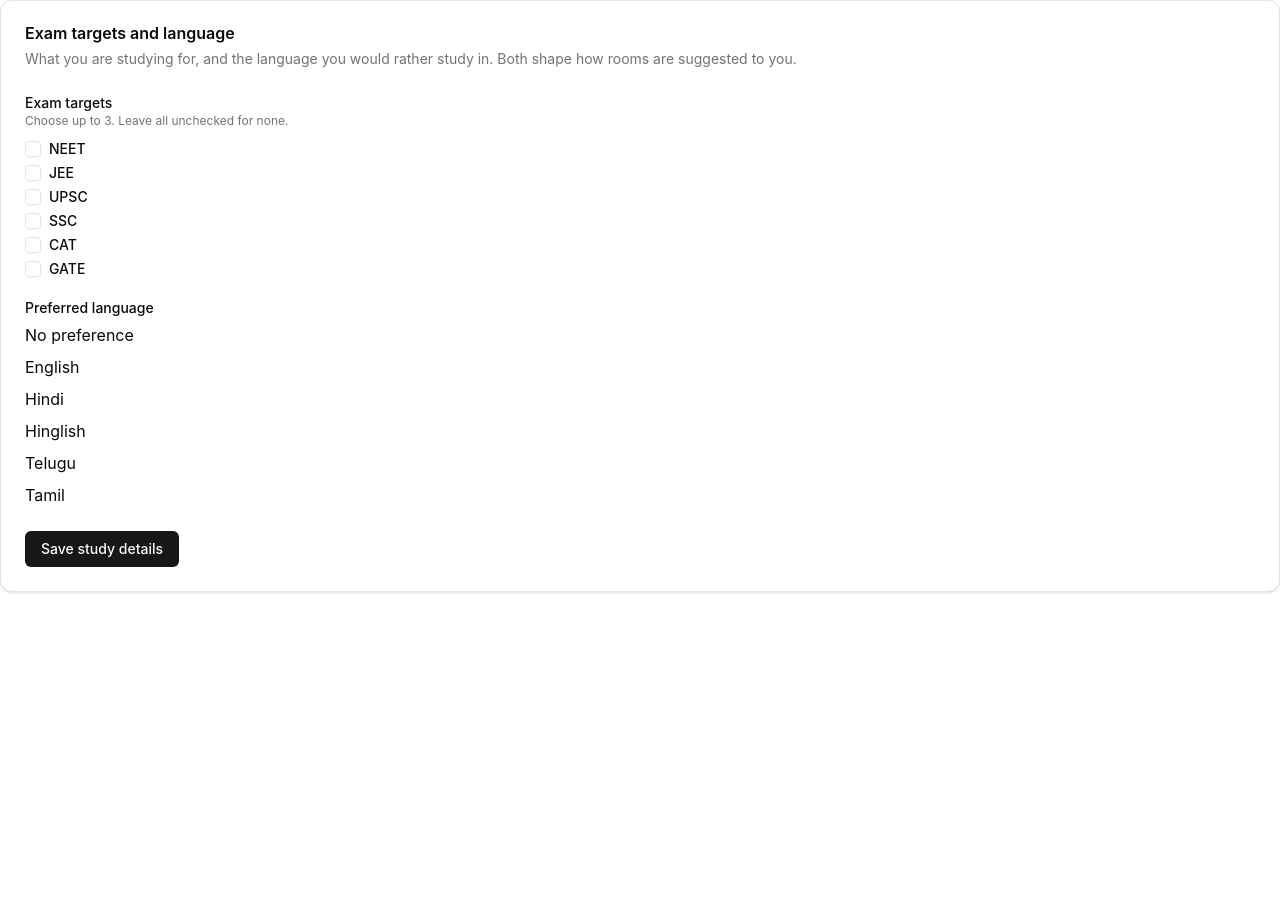
StudyPreferencesForm › surfaces a server-side validation message as an alert
This screenshot has width=1280, height=900.
Click the button "Save study details" at [102, 549], box [25, 531, 179, 567]
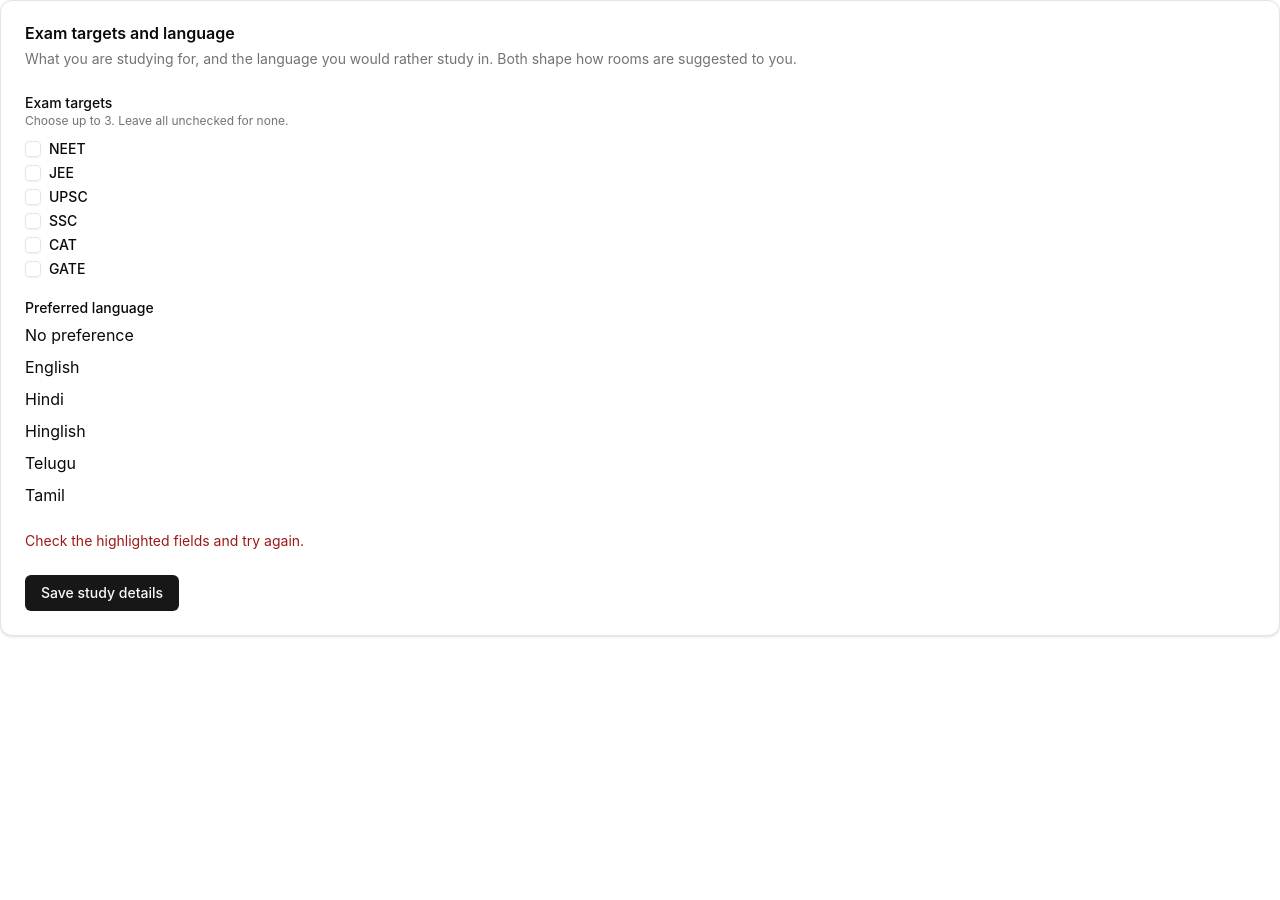
Result: the message shows "Check the highlighted fields" at [25, 532, 304, 549]
